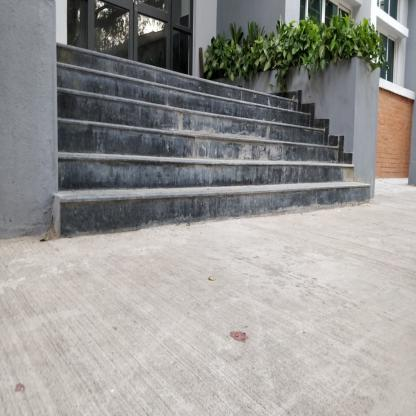stairs: (79, 99, 265, 240)
